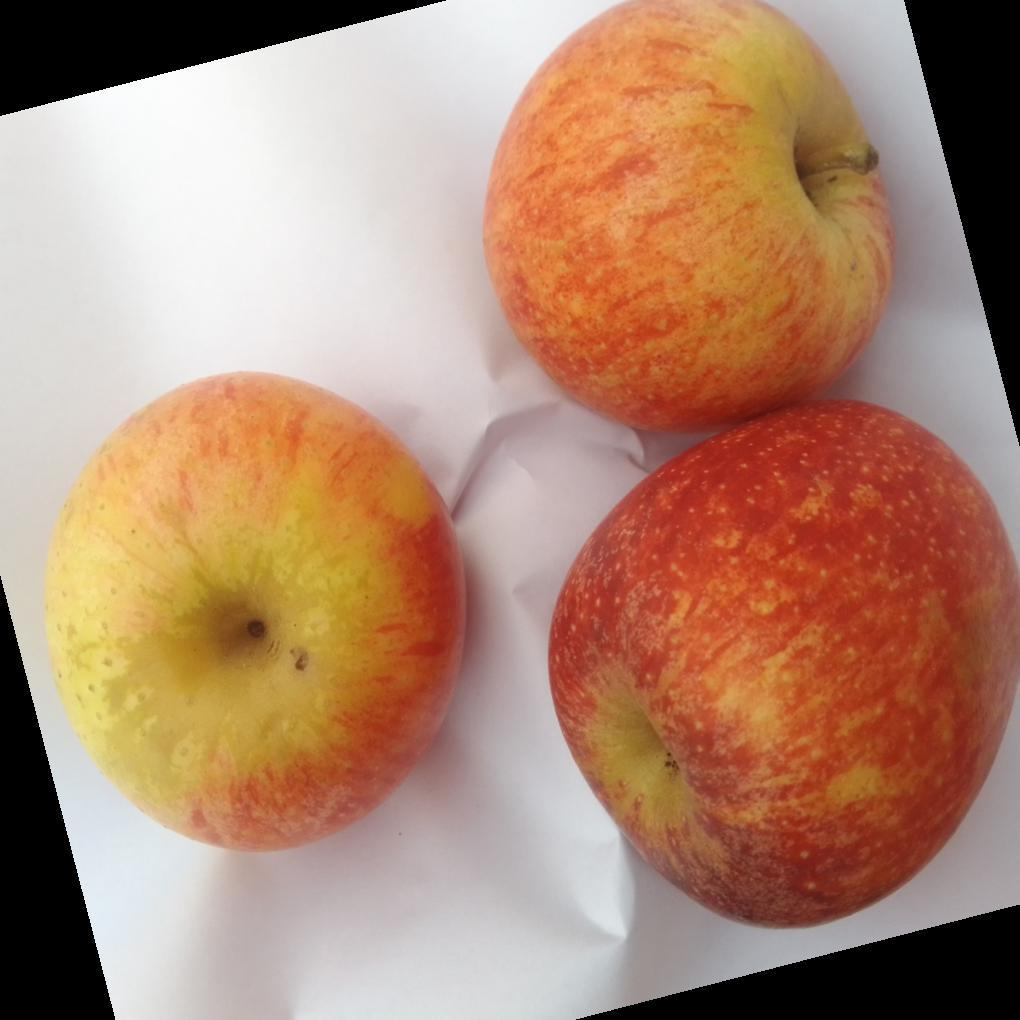FreshGuava: (482, 0, 1020, 933), (50, 373, 467, 856)
